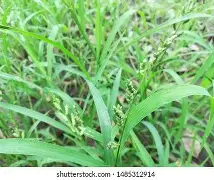weed: (0, 0, 213, 165)
